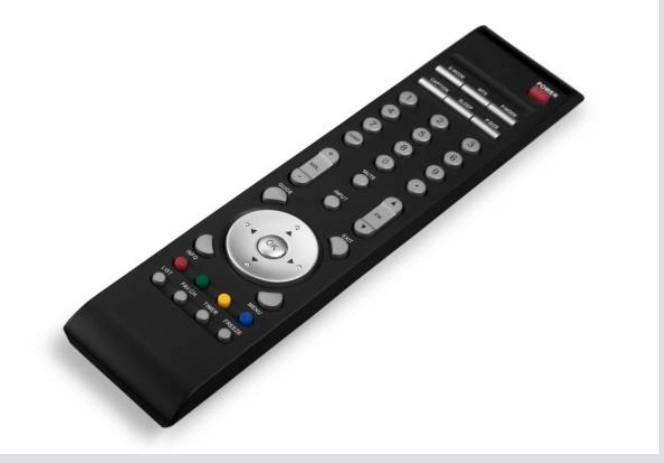Remote control: (62, 26, 586, 429)
